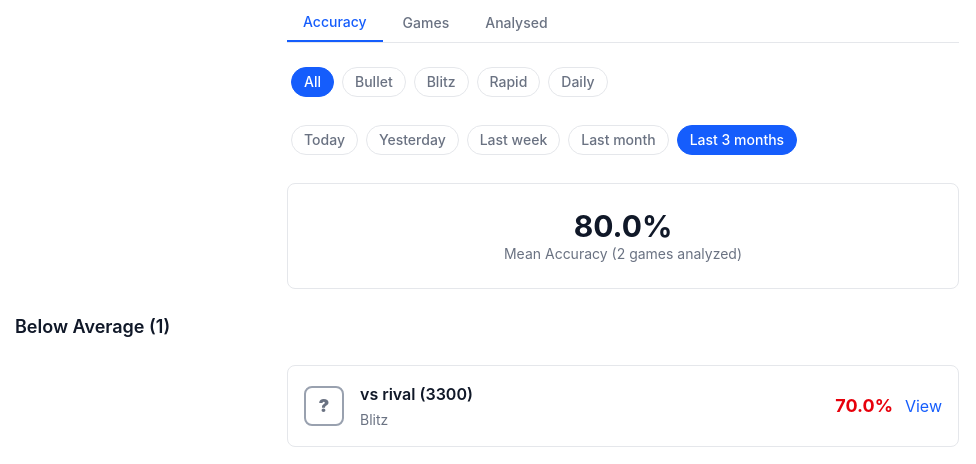
Test: PlayerPage › narrows the accuracy analysis when switching to "Today"
Expected: the text "80.0%" is shown, [574, 208, 672, 244]
Expected: the text "Mean Accuracy (2 games analyzed)" is shown, [504, 245, 742, 262]
Switch to "Today" → only the very recent 90% game remains.
Click the button "Today": (324,140) [291, 125, 358, 155]
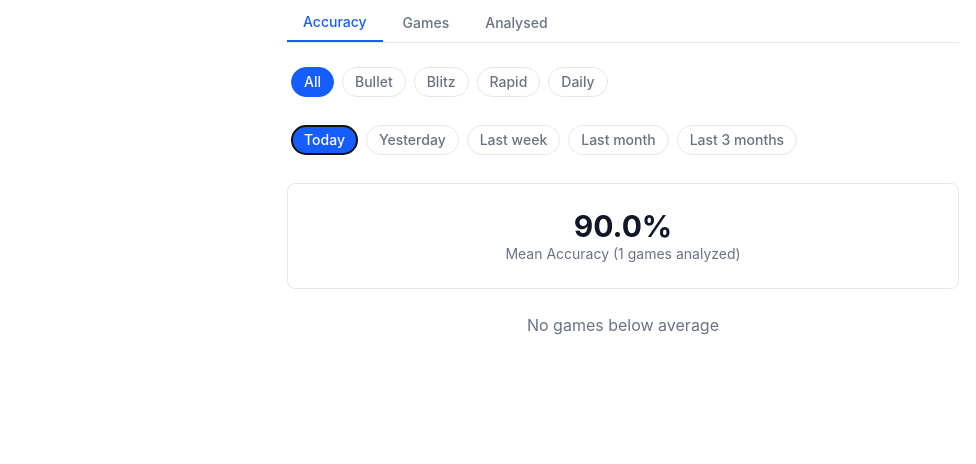
Expected: the text "90.0%" is shown, [574, 208, 672, 244]
Expected: the text "Mean Accuracy (1 games analyzed)" is shown, [505, 245, 741, 262]
